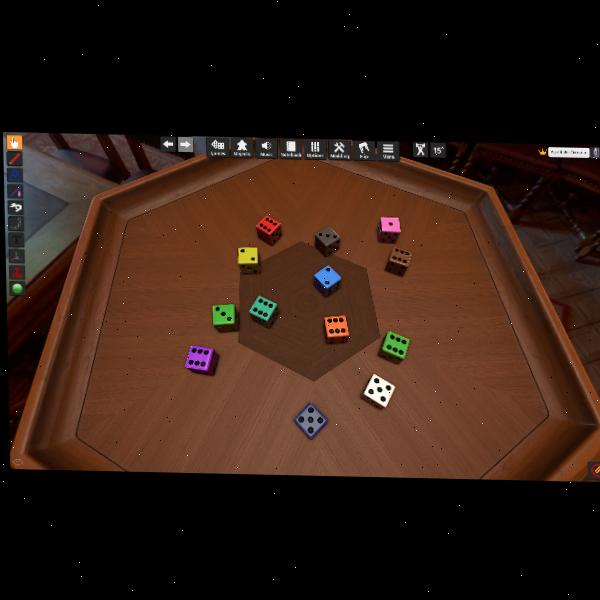d6: (360, 373, 395, 409), (293, 403, 324, 440), (185, 344, 219, 375), (247, 295, 278, 328), (379, 330, 410, 363), (385, 245, 412, 277), (314, 266, 340, 298), (314, 225, 340, 257), (255, 214, 281, 246), (212, 303, 238, 333), (324, 315, 348, 344), (377, 216, 401, 245), (237, 245, 260, 274)
